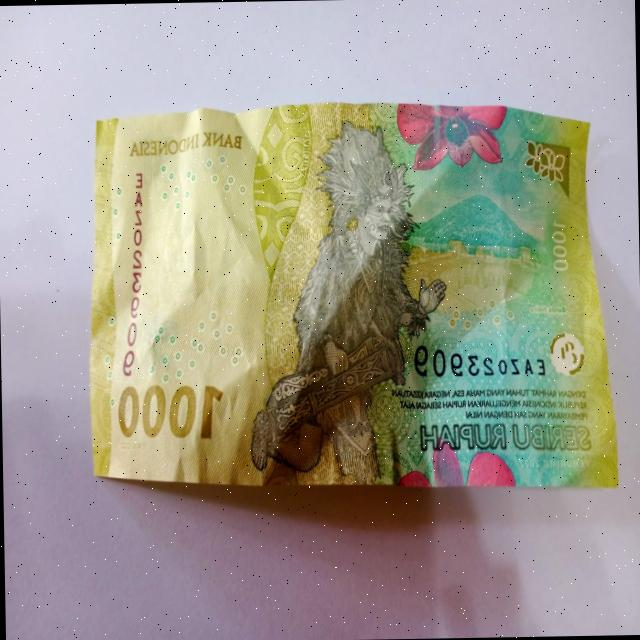1K: (76, 86, 623, 489)
